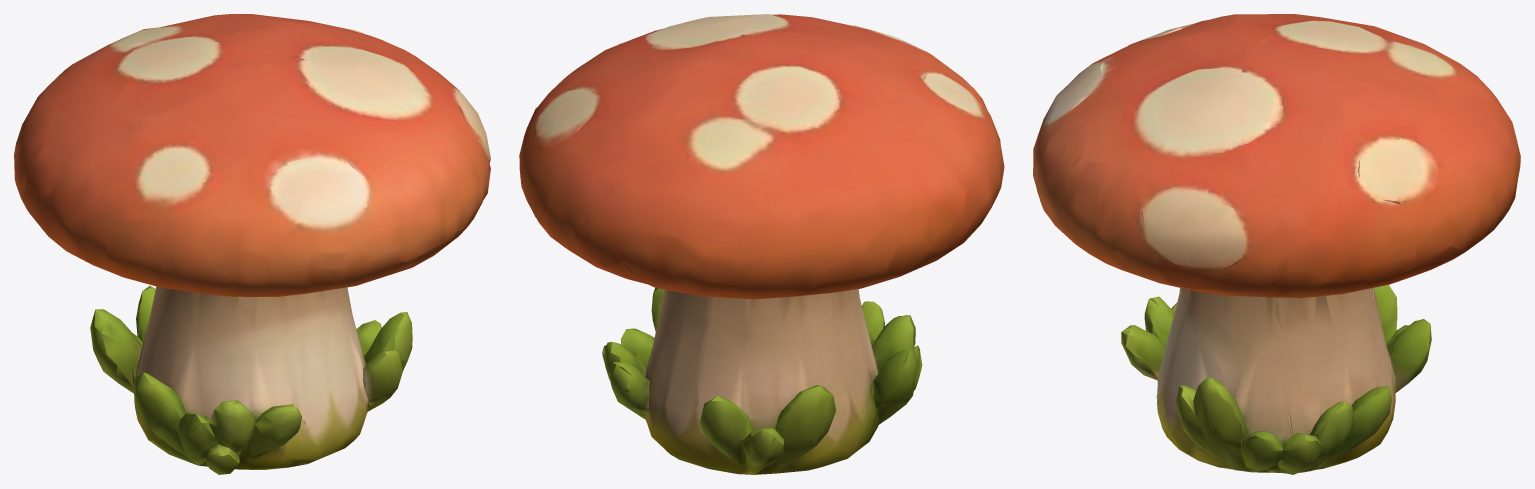
The model's file is table07.glb.
The picture shows the model from 3 angles, left to right: view 1: azimuth 30°, elevation 25°; view 2: azimuth 150°, elevation 25°; view 3: azimuth 270°, elevation 25°; orthographic projection.
Bounding box in the file's own units: 0.2144 × 0.185 × 0.2171.
Materials: 1 (1 with a texture image).
